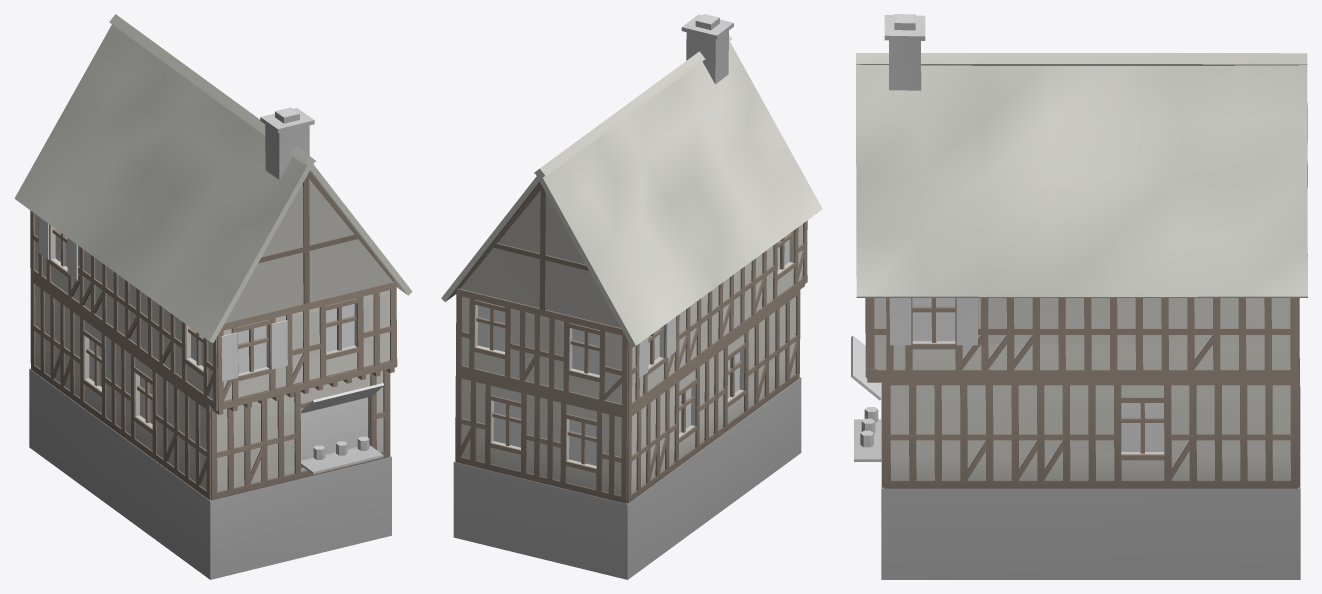
The model's file is townhouse_3.glb.
The picture shows the model from 3 angles, left to right: view 1: azimuth 30°, elevation 25°; view 2: azimuth 150°, elevation 25°; view 3: azimuth 270°, elevation 25°; orthographic projection. The views are drawn at different scales.
Parts seen in each view (by area): view 1: townhouse_3; view 2: townhouse_3; view 3: townhouse_3.
Part boxes in pixels (<box>): townhouse_3: <box>14,14,412,579</box>; townhouse_3: <box>441,14,822,579</box>; townhouse_3: <box>851,14,1307,579</box>.
Bounding box in the file's own units: 6.35 × 13.11 × 10.67.
